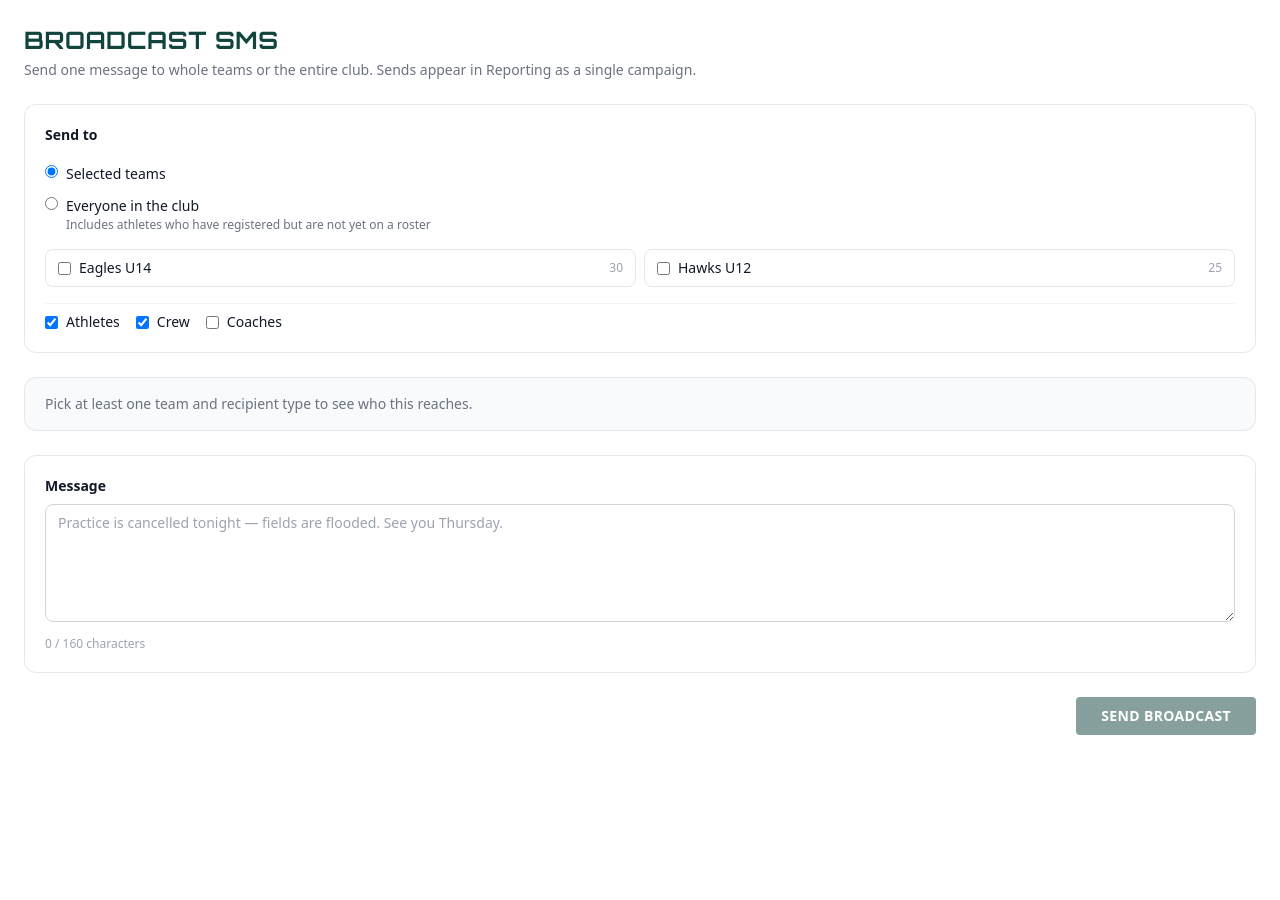
Test: BroadcastCompose › disables send until there is an audience and a message
This screenshot has width=1280, height=900.
Expected: the button "Send broadcast" is disabled, [1076,697,1256,735]
Click the checkbox labelled "Eagles U14 30": (64,268) [58,262,71,274]
Wait 400 ms
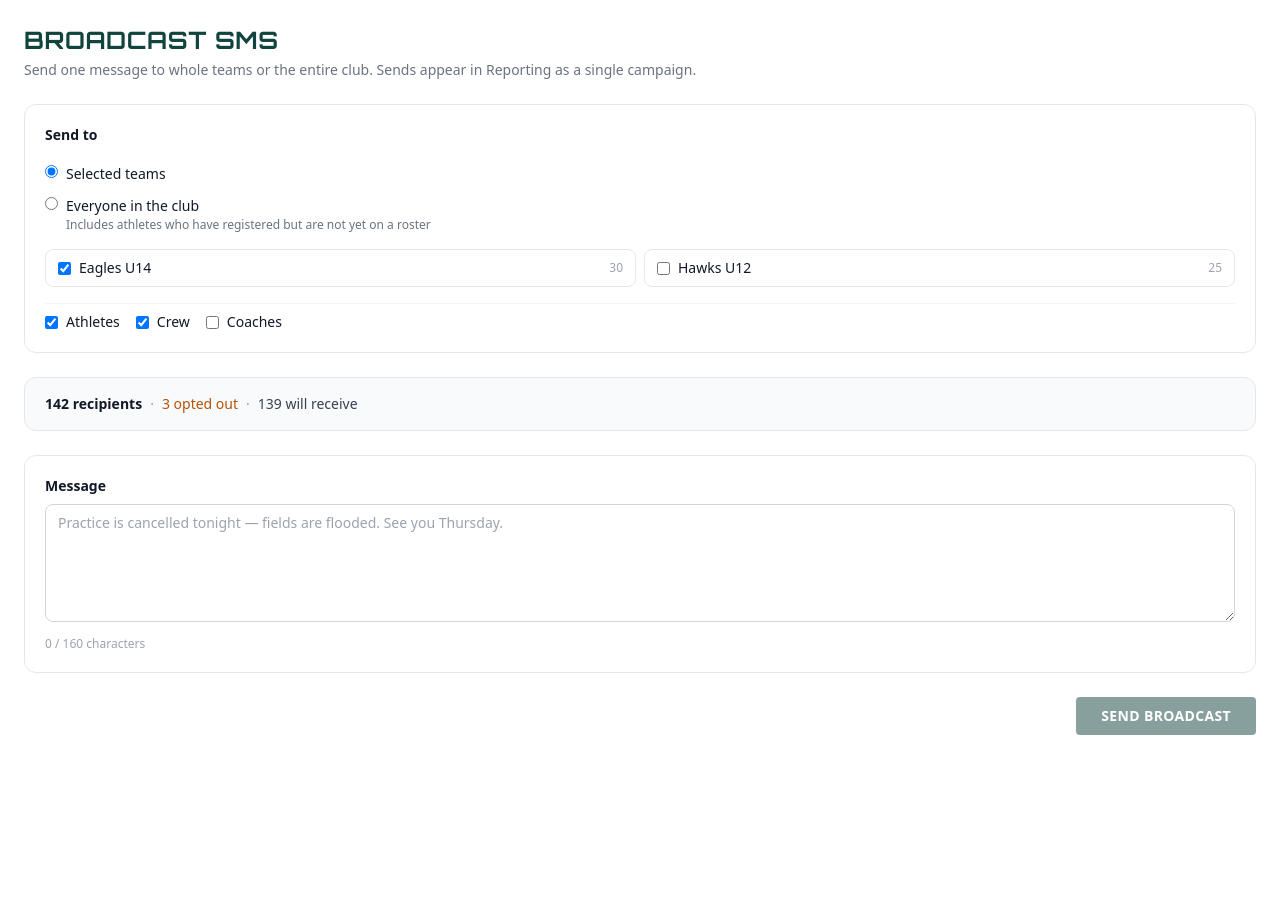
Expected: the button "Send broadcast" is disabled, [1076,697,1256,735]
Replace the text in the text box labelled "Message" with "Hi": (640,563) [45,504,1235,622]
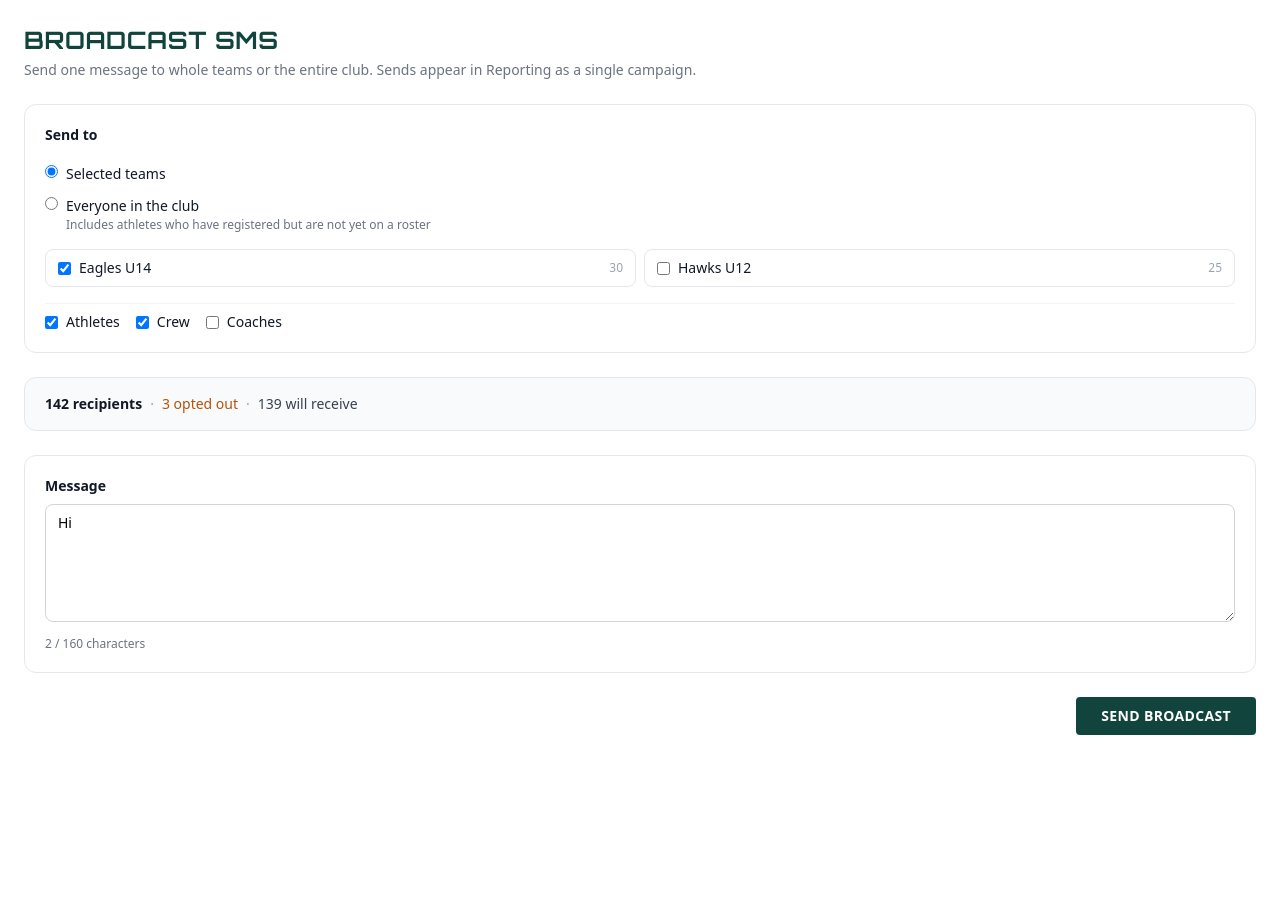
Now the button "Send broadcast" is enabled, box [1076,697,1256,735]
